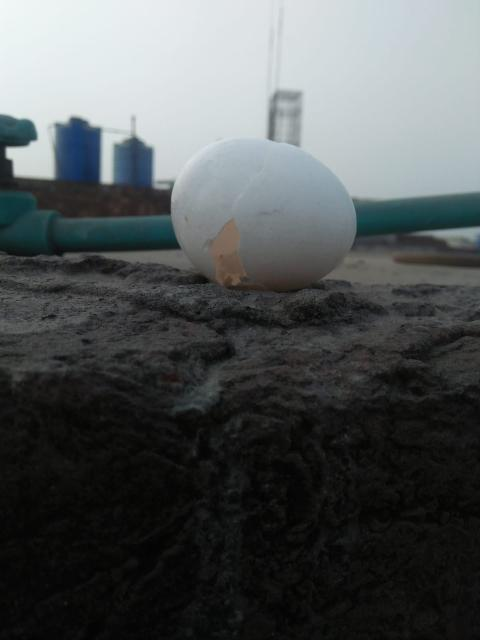Roto: (169, 135, 358, 292)
